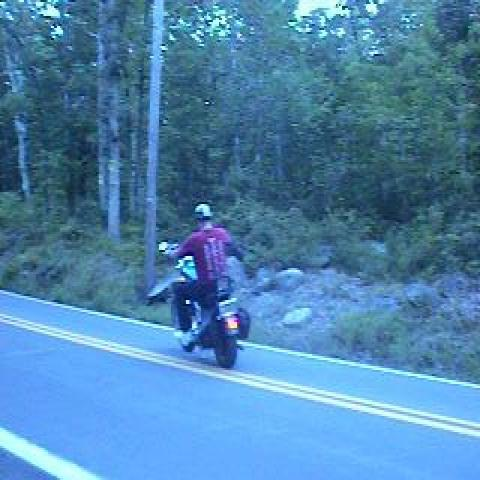motorcycle: (158, 242, 244, 367)
